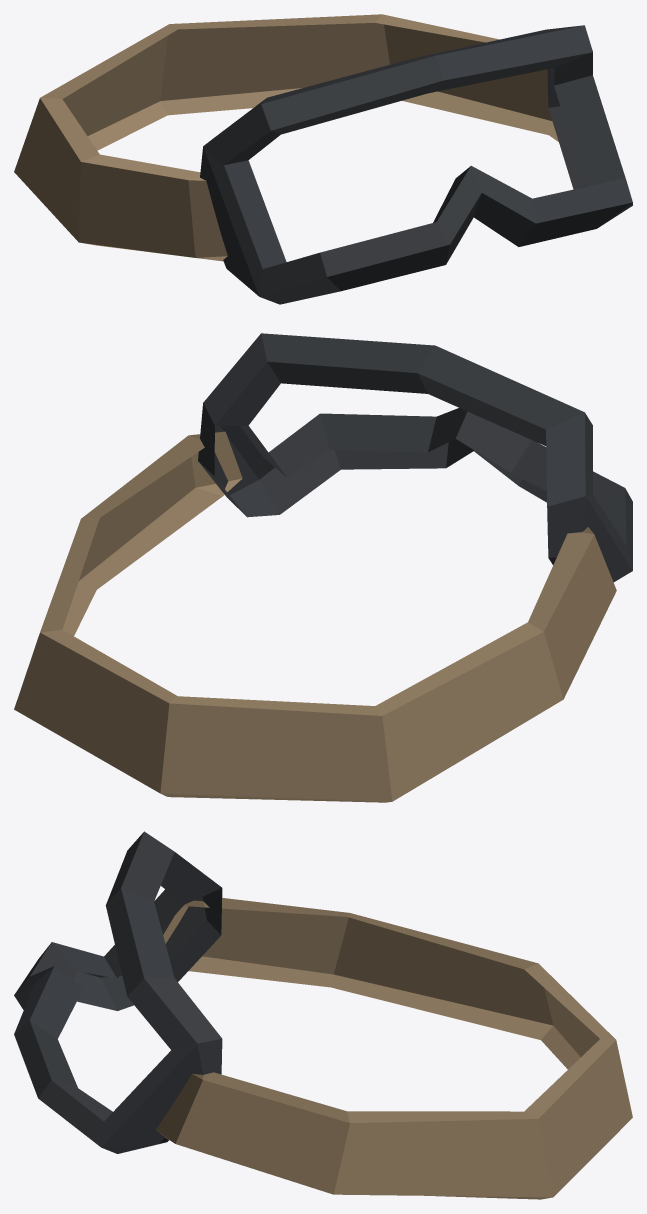
Rendered from SM_Chr_Attach_Helmet_01_Goggles_02.fbx.
3 views of the same model, one above another, from view 1: azimuth 30°, elevation 25°; view 2: azimuth 150°, elevation 25°; view 3: azimuth 270°, elevation 25° (orthographic). The views are drawn at different scales.
Visible parts, largest first — view 1: SM_Chr_Attach_Helmet_01_Goggles_02; view 2: SM_Chr_Attach_Helmet_01_Goggles_02; view 3: SM_Chr_Attach_Helmet_01_Goggles_02.
Part boxes in pixels (x1,y1,x2,y2): SM_Chr_Attach_Helmet_01_Goggles_02: [14, 14, 632, 304]; SM_Chr_Attach_Helmet_01_Goggles_02: [14, 333, 632, 802]; SM_Chr_Attach_Helmet_01_Goggles_02: [14, 831, 632, 1199].
Bounding box in the file's own units: 30.49 × 15.36 × 36.22.
